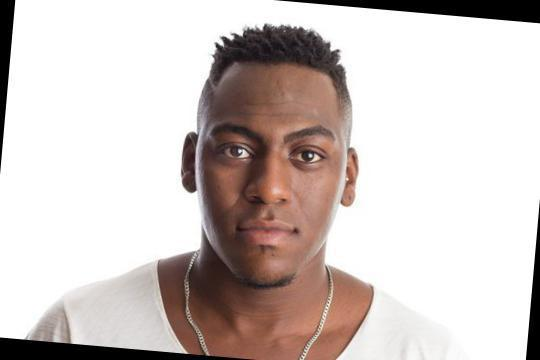Sober: (196, 76, 340, 271)
